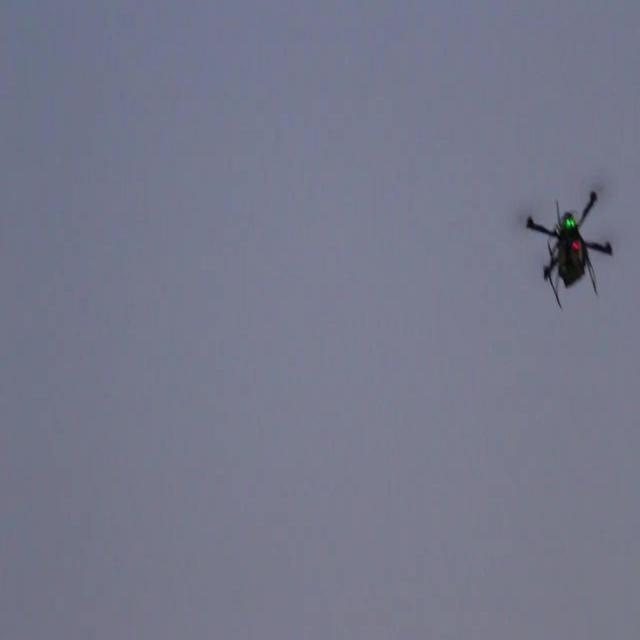UAV: (525, 188, 613, 310)
